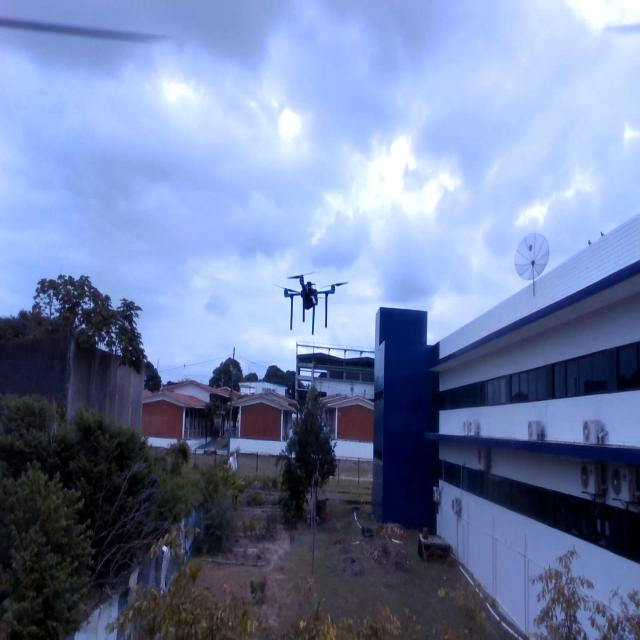-uav-: (272, 256, 352, 341)
